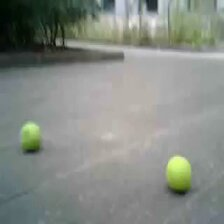tennis: (165, 155, 190, 187), (21, 123, 42, 152)
